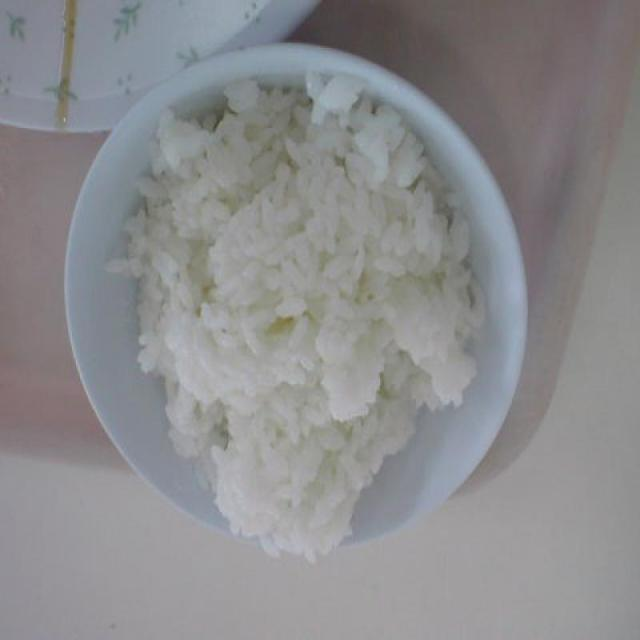nasi_putih: (110, 61, 487, 564)
